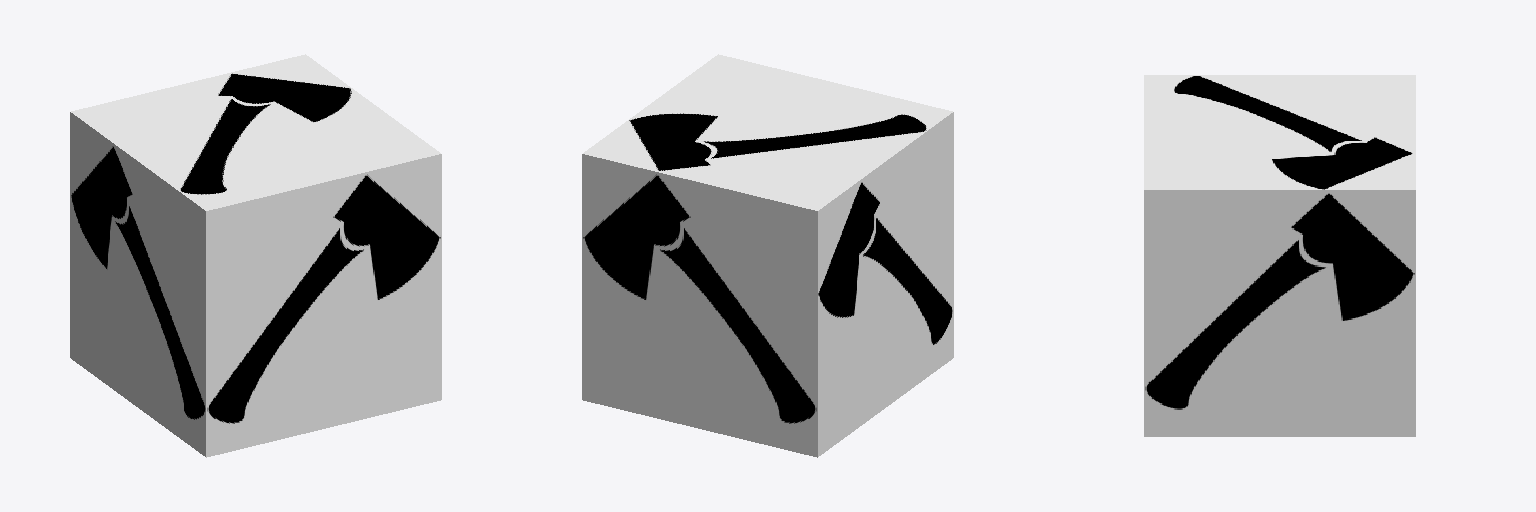
3 renders of one model, left to right at view 1: azimuth 30°, elevation 25°; view 2: azimuth 150°, elevation 25°; view 3: azimuth 270°, elevation 25°, orthographic.
Visible parts, largest first — view 1: pCube1; view 2: pCube1; view 3: pCube1.
Boxes of the visible parts, <box> form: pCube1: <box>70,54,441,457</box>; pCube1: <box>582,54,953,457</box>; pCube1: <box>1144,75,1415,436</box>.
Size of the model in its own units: 2 by 2 by 2.
1 materials, 1 textured.